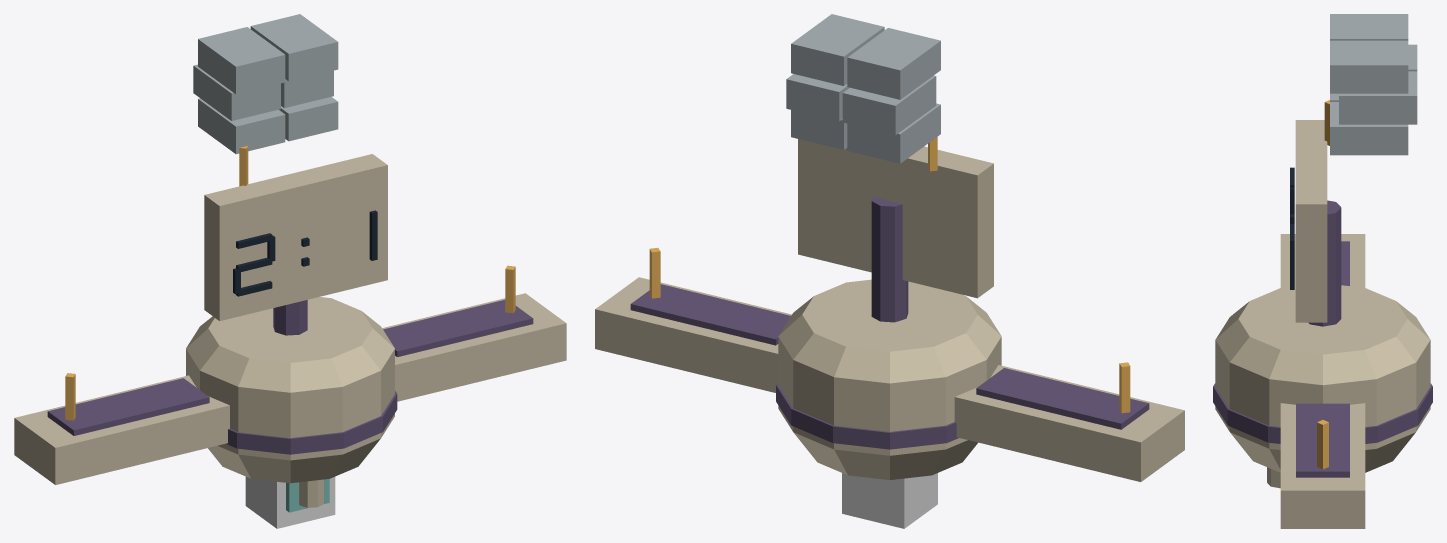
File: space_port_clay.glb
3 renders of one model, left to right at view 1: azimuth 30°, elevation 25°; view 2: azimuth 150°, elevation 25°; view 3: azimuth 270°, elevation 25°, orthographic. The views are drawn at different scales.
Parts seen in each view (by area): view 1: FixedDetails, WoodBody, BrassTrim; view 2: FixedDetails, WoodBody, BrassTrim; view 3: FixedDetails, BrassTrim.
Part boxes in pixels (x1,y1,x2,y2): FixedDetails: [14, 14, 566, 512]; WoodBody: [245, 477, 335, 528]; BrassTrim: [65, 146, 515, 420]; FixedDetails: [595, 14, 1184, 481]; WoodBody: [842, 473, 937, 528]; BrassTrim: [649, 137, 1130, 413]; FixedDetails: [1213, 14, 1432, 528]; BrassTrim: [1317, 100, 1329, 469].
Bounding box in the file's own units: 0.79 × 0.6699 × 0.286.
